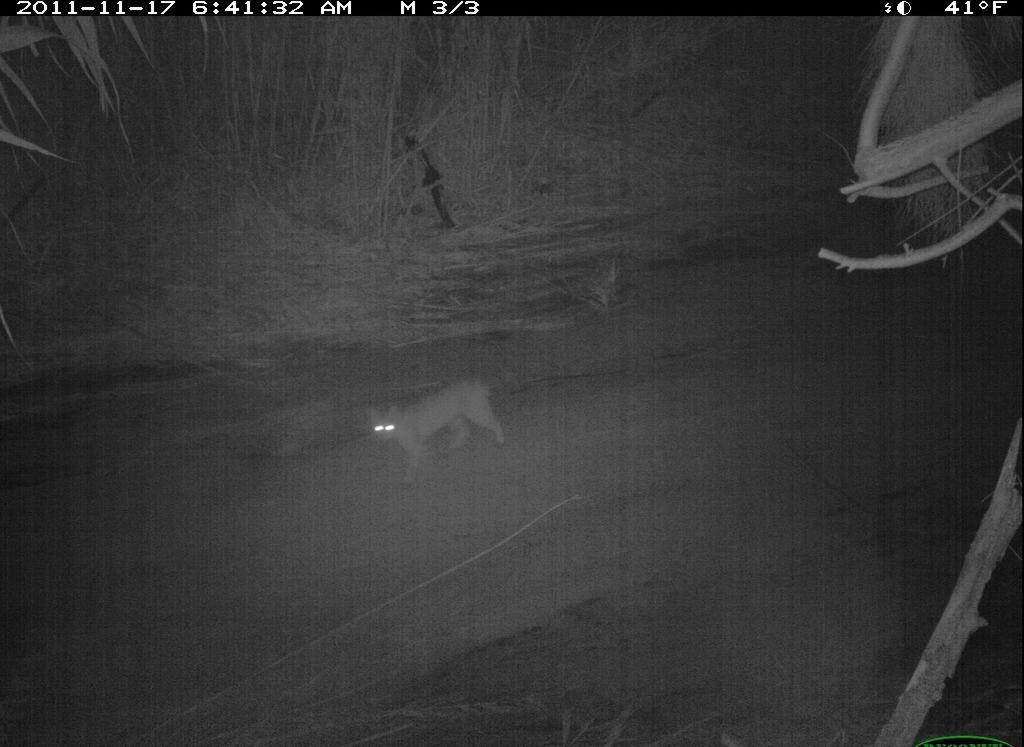bobcat: (361, 369, 516, 486)
